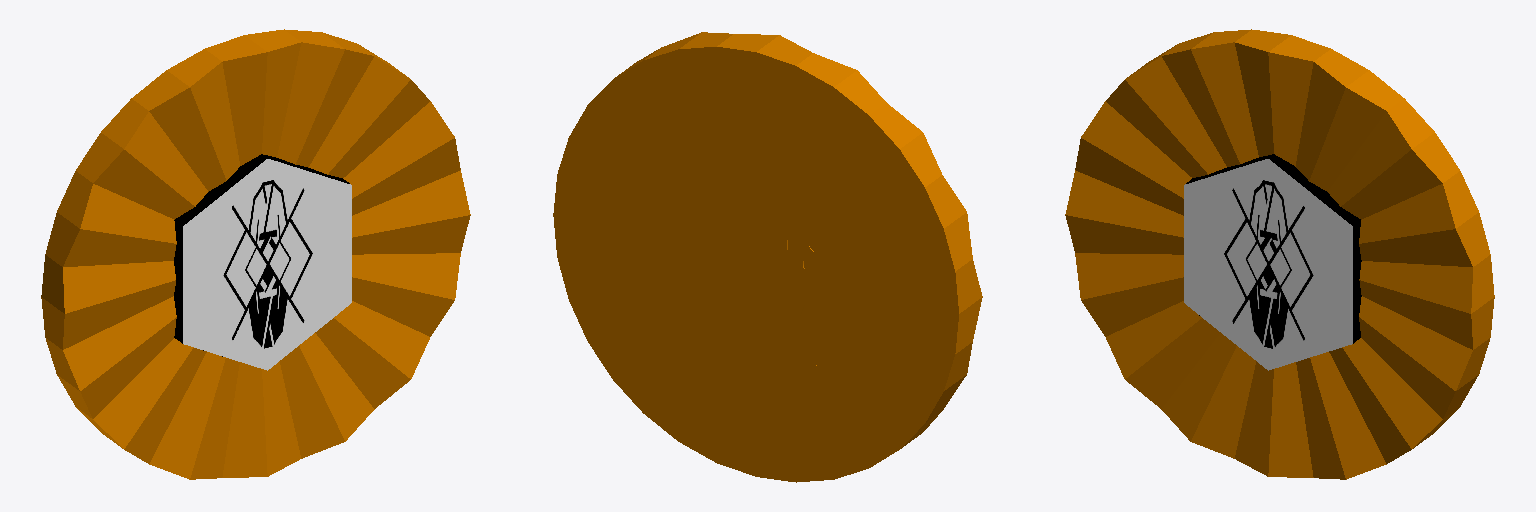
The picture shows the model from 3 angles: view 1: azimuth 30°, elevation 25°; view 2: azimuth 150°, elevation 25°; view 3: azimuth 330°, elevation 25°; orthographic projection.
Visible parts, largest first — view 1: Cylinder; view 2: Cylinder; view 3: Cylinder.
Part boxes in pixels (x1,y1,x2,y2): Cylinder: (41,29,470,479); Cylinder: (553,32,982,482); Cylinder: (1065,29,1494,479).
Bounding box in the file's own units: 10 × 10 × 1.
Materials: 3 (1 with a texture image).